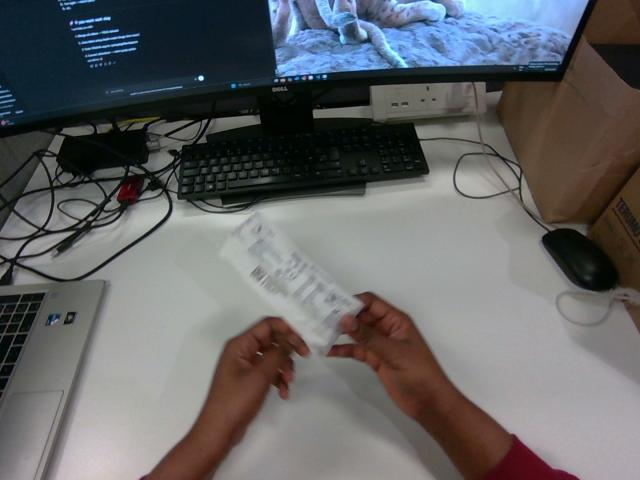syringe: (220, 213, 362, 354)
